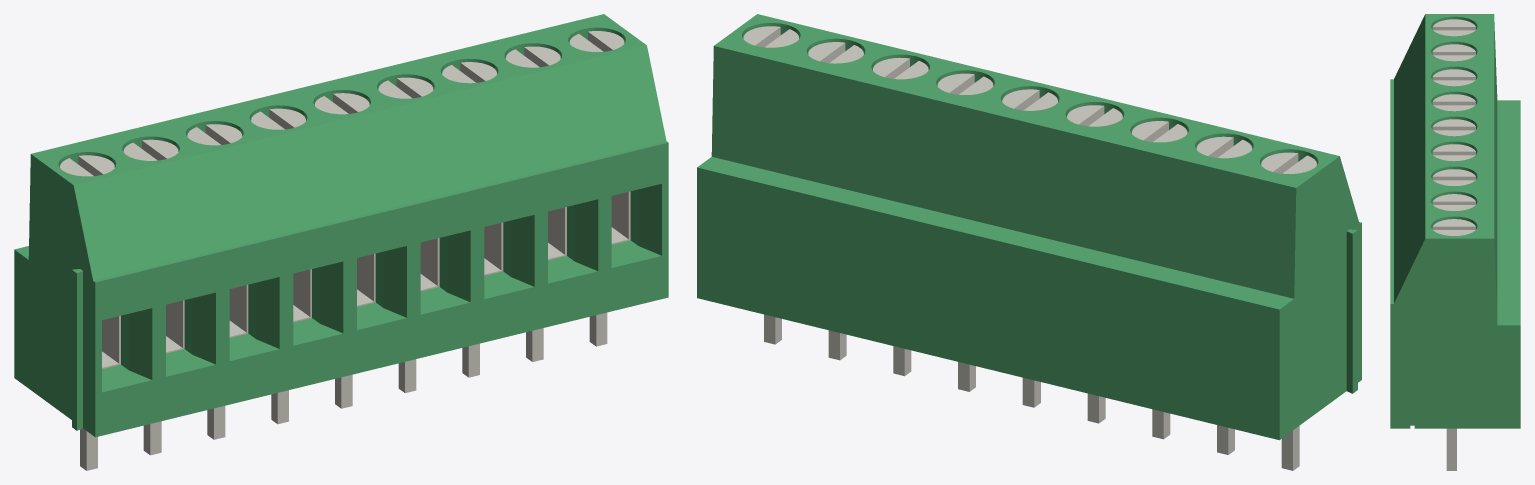
The model's file is kc-terminalblock_phoenix_mkds-3-9-5.08_1x09_p5.08mm_horizontal.glb.
3 renders of one model, left to right at view 1: azimuth 30°, elevation 25°; view 2: azimuth 150°, elevation 25°; view 3: azimuth 270°, elevation 25°, orthographic. The views are drawn at different scales.
Visible parts, largest first — view 1: 0.08333333333333333_0.4166666666666667_0.16666666666666666_0, 0.6666666666666666_0.6666666666666666_0.5833333333333334_0.8; view 2: 0.08333333333333333_0.4166666666666667_0.16666666666666666_0, 0.6666666666666666_0.6666666666666666_0.5833333333333334_0.8; view 3: 0.08333333333333333_0.4166666666666667_0.16666666666666666_0, 0.6666666666666666_0.6666666666666666_0.5833333333333334_0.8.
Boxes of the visible parts, bbox=[...] form: 0.08333333333333333_0.4166666666666667_0.16666666666666666_0: bbox=[14, 14, 668, 437]; 0.6666666666666666_0.6666666666666666_0.5833333333333334_0.8: bbox=[60, 31, 630, 470]; 0.08333333333333333_0.4166666666666667_0.16666666666666666_0: bbox=[697, 14, 1361, 440]; 0.6666666666666666_0.6666666666666666_0.5833333333333334_0.8: bbox=[743, 26, 1316, 470]; 0.08333333333333333_0.4166666666666667_0.16666666666666666_0: bbox=[1390, 14, 1520, 428]; 0.6666666666666666_0.6666666666666666_0.5833333333333334_0.8: bbox=[1432, 19, 1475, 470].
Bounding box in the file's own units: 4.63 × 2.3 × 1.12.
